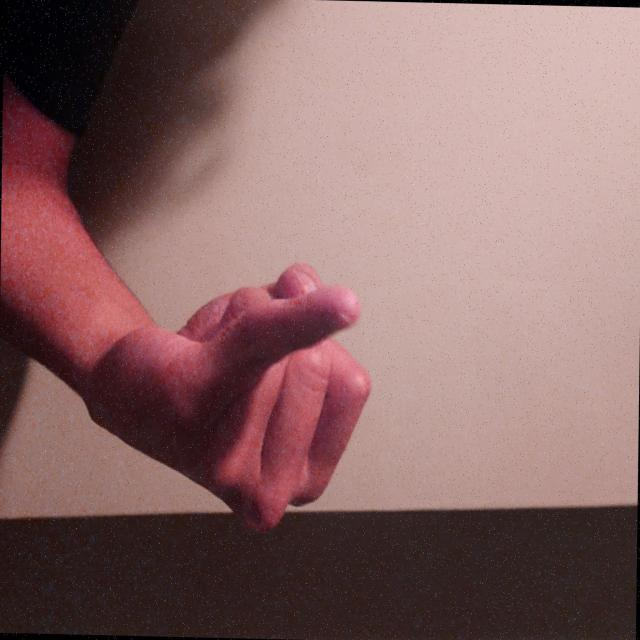J: (348, 349, 566, 640)
